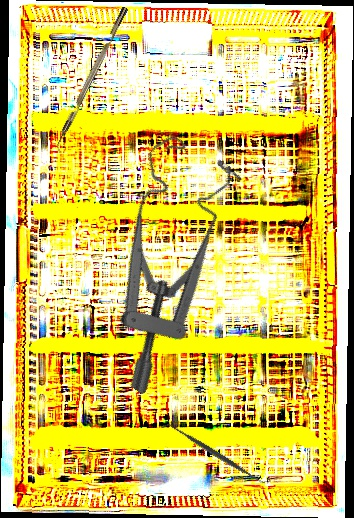Chopper: (50, 6, 136, 155)
Spatula Surgical: (161, 416, 269, 491)
Speculum: (32, 123, 282, 396)
